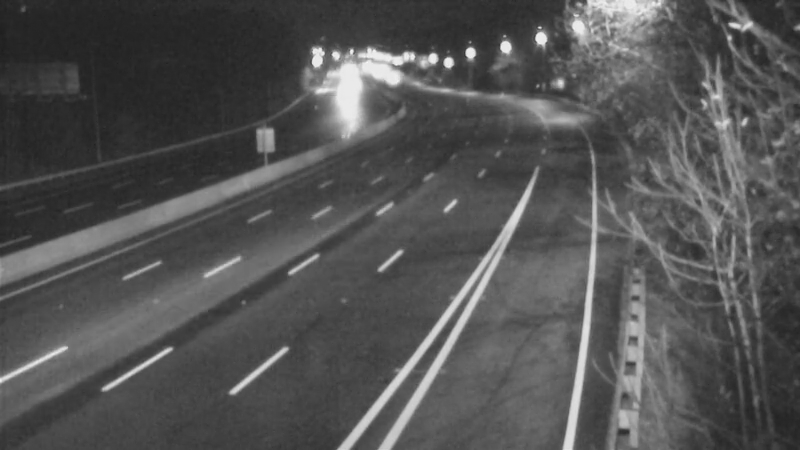vehicle: (367, 52, 417, 102)
